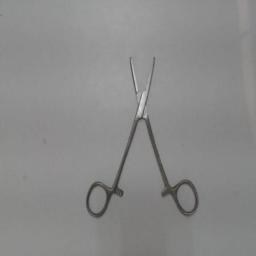Mayo Needle Holder: (80, 45, 202, 221)
